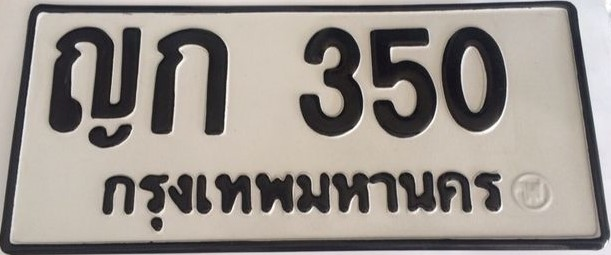txt01: (150, 27, 231, 139)
txt10: (46, 23, 143, 150)
